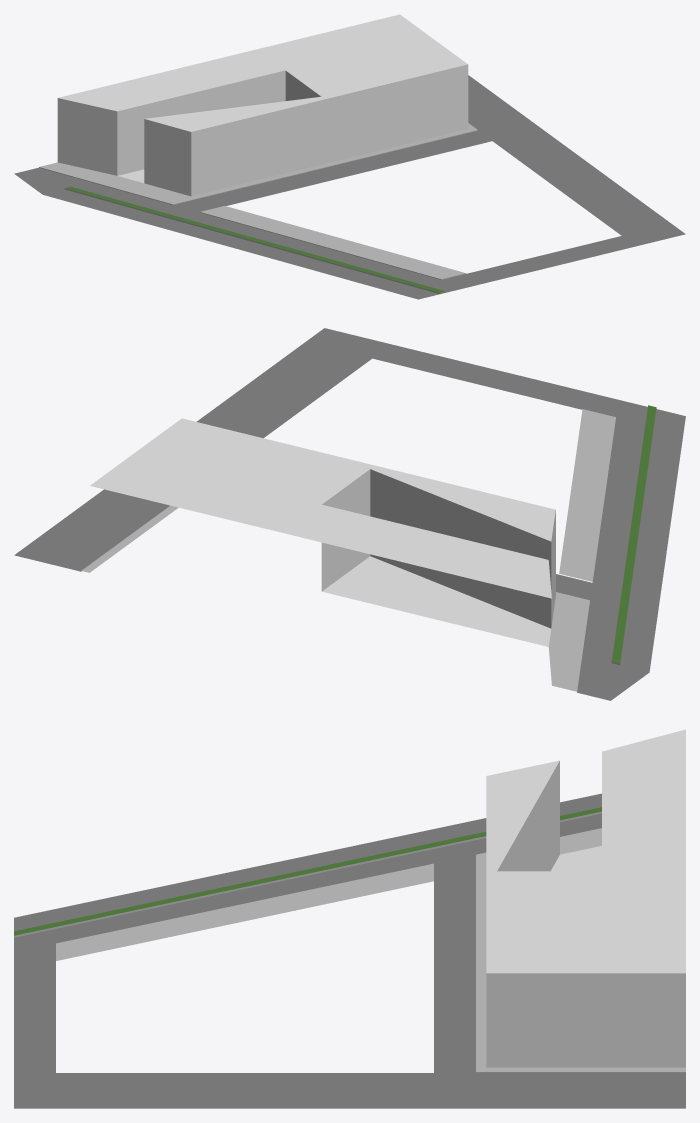
The model's file is legion.glb.
3 views of the same model, one above another, from view 1: azimuth 30°, elevation 25°; view 2: azimuth 150°, elevation 25°; view 3: azimuth 270°, elevation 25° (orthographic). The views are drawn at different scales.
Parts seen in each view (by area): view 1: Pollo, Picasso, Square, Avenue, Sidewalk, Island; view 2: Pollo, Square, Picasso, Avenue, Sidewalk, Island; view 3: Pollo, Picasso, Avenue, Sidewalk, Square, Island.
Part boxes in pixels (x1,y1,x2,y2): Pollo: (57,14,468,175); Picasso: (173,75,685,287); Square: (118,71,324,196); Avenue: (14,167,467,299); Sidewalk: (39,123,477,279); Island: (64,186,445,293); Pollo: (90,418,551,598); Square: (321,465,555,646); Picasso: (14,328,618,600); Avenue: (577,400,685,700); Sidewalk: (81,409,615,692); Island: (611,405,656,665); Pollo: (486,729,685,1067); Picasso: (14,855,685,1108); Avenue: (14,793,601,952); Sidewalk: (56,828,685,1072); Square: (486,760,601,871); Island: (14,807,601,937).
Size of the model in its own units: 71 by 10 by 64.
